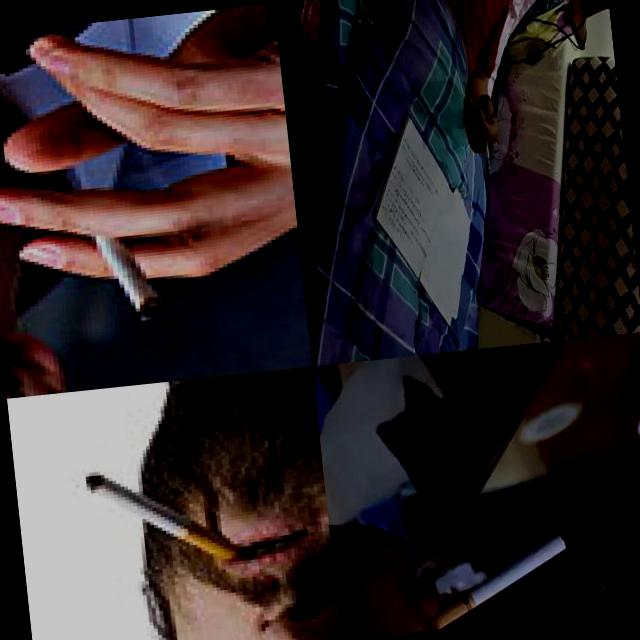smoke: (81, 458, 242, 576), (424, 530, 576, 628), (98, 230, 166, 328), (484, 134, 491, 170)
